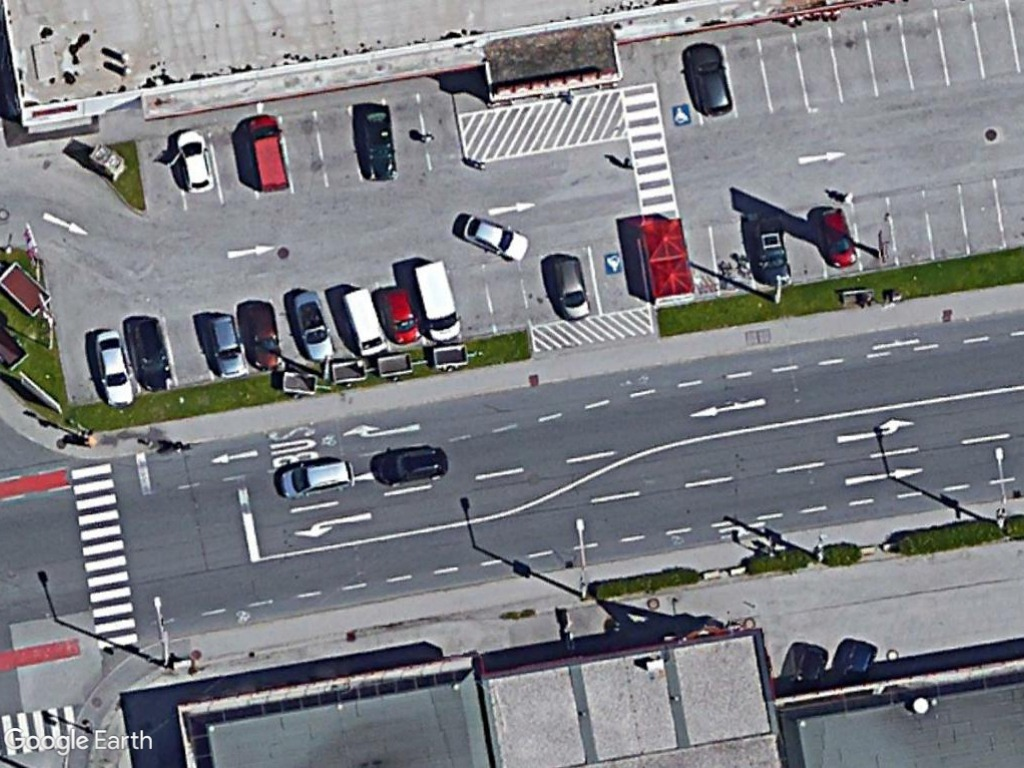car: (680, 42, 736, 121), (364, 439, 448, 491), (85, 324, 134, 412), (456, 211, 533, 265), (284, 288, 337, 366), (234, 298, 287, 376), (274, 452, 358, 501), (166, 124, 217, 198), (548, 253, 594, 326), (815, 201, 860, 272), (201, 310, 246, 381), (374, 281, 420, 349)
van: (409, 255, 467, 349), (242, 110, 292, 197)
